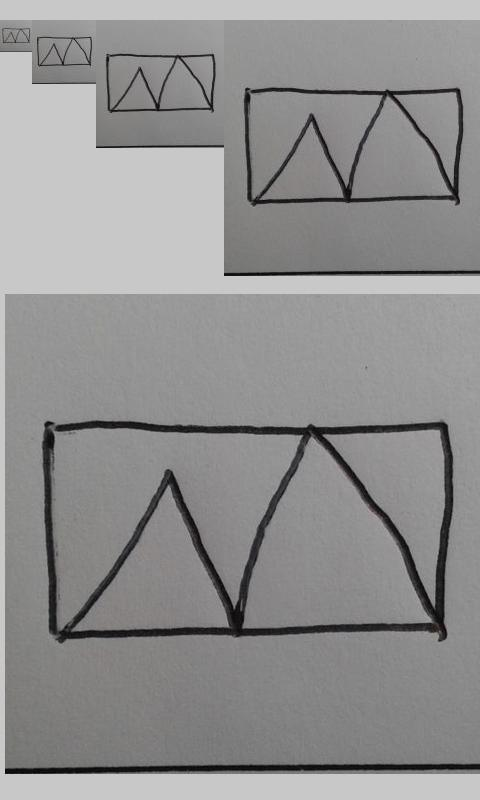image_view: (41, 416, 453, 640), (242, 86, 464, 206), (106, 53, 215, 112), (36, 36, 92, 66), (2, 27, 31, 44)
